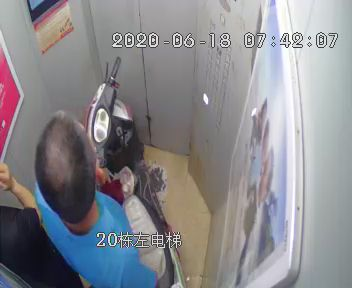Electric-bicycle: (84, 56, 184, 288)
